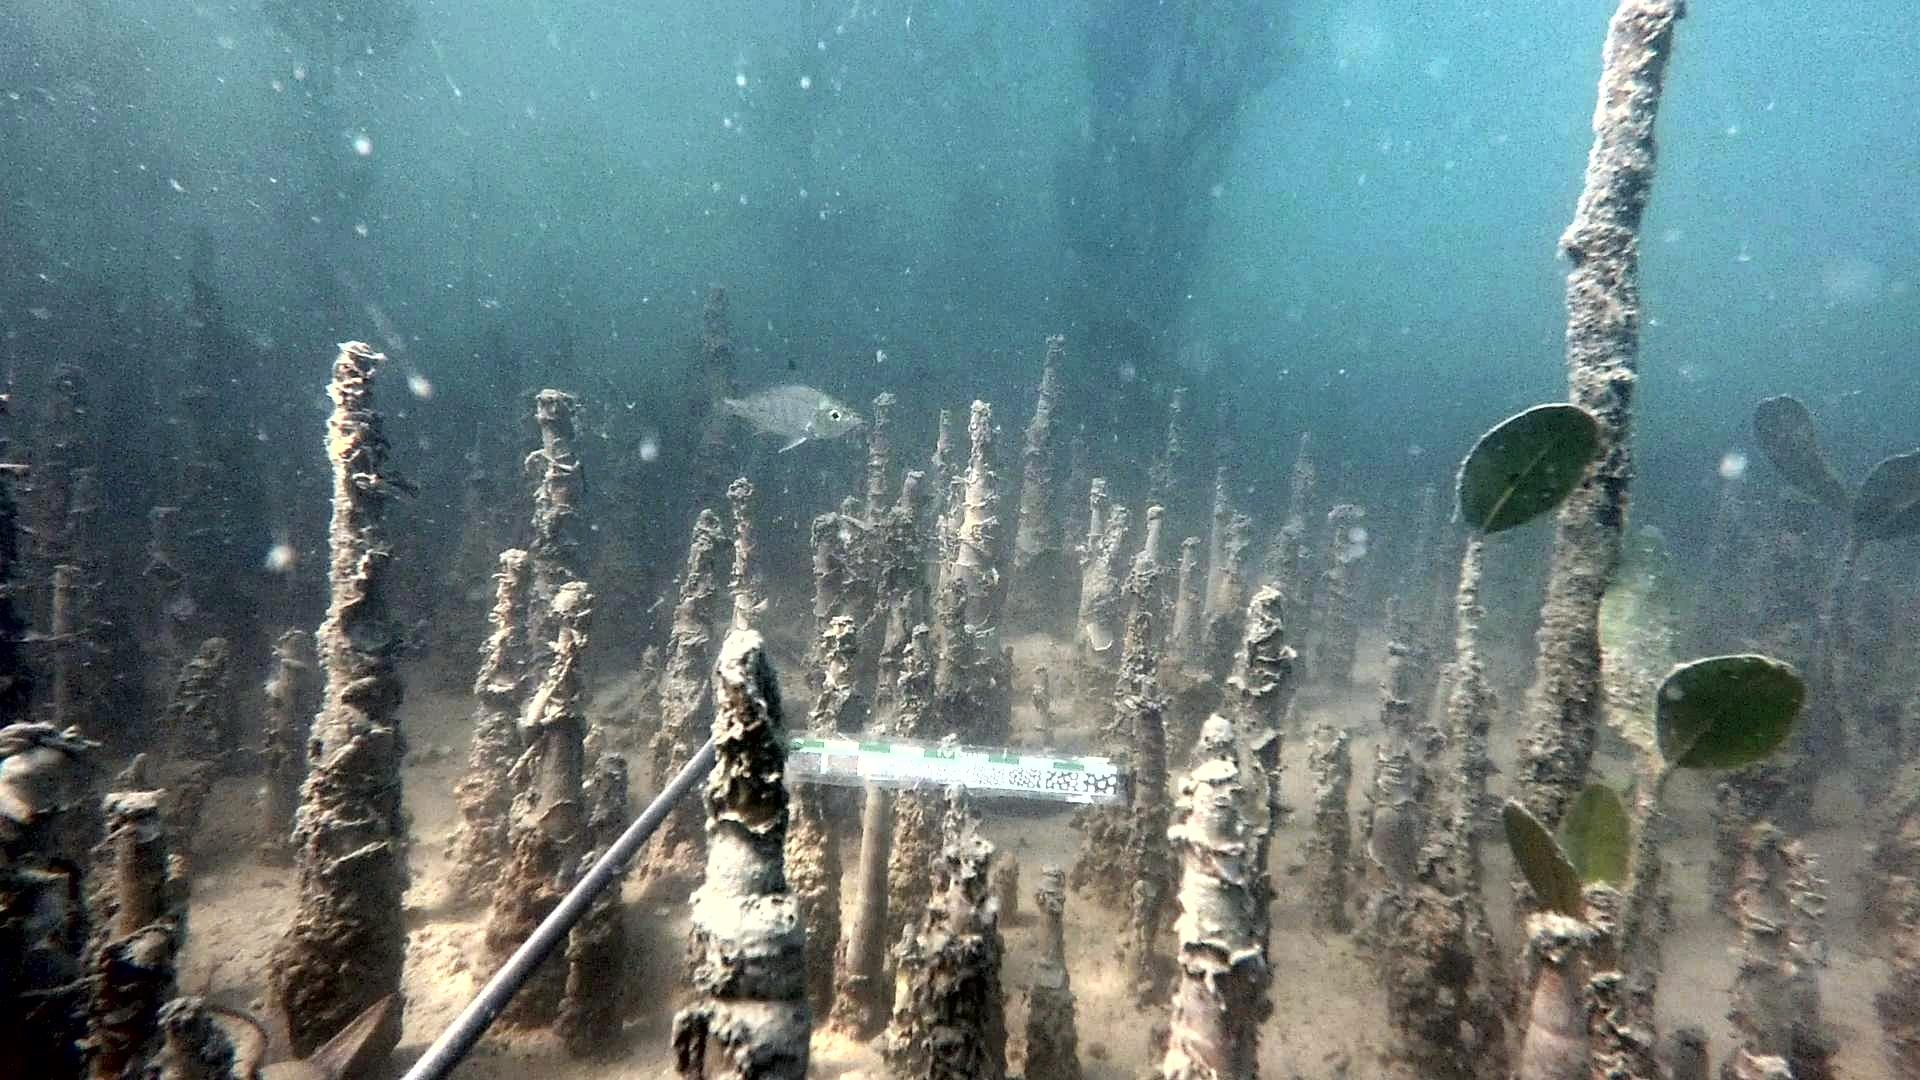gerres: (692, 358, 863, 455)
